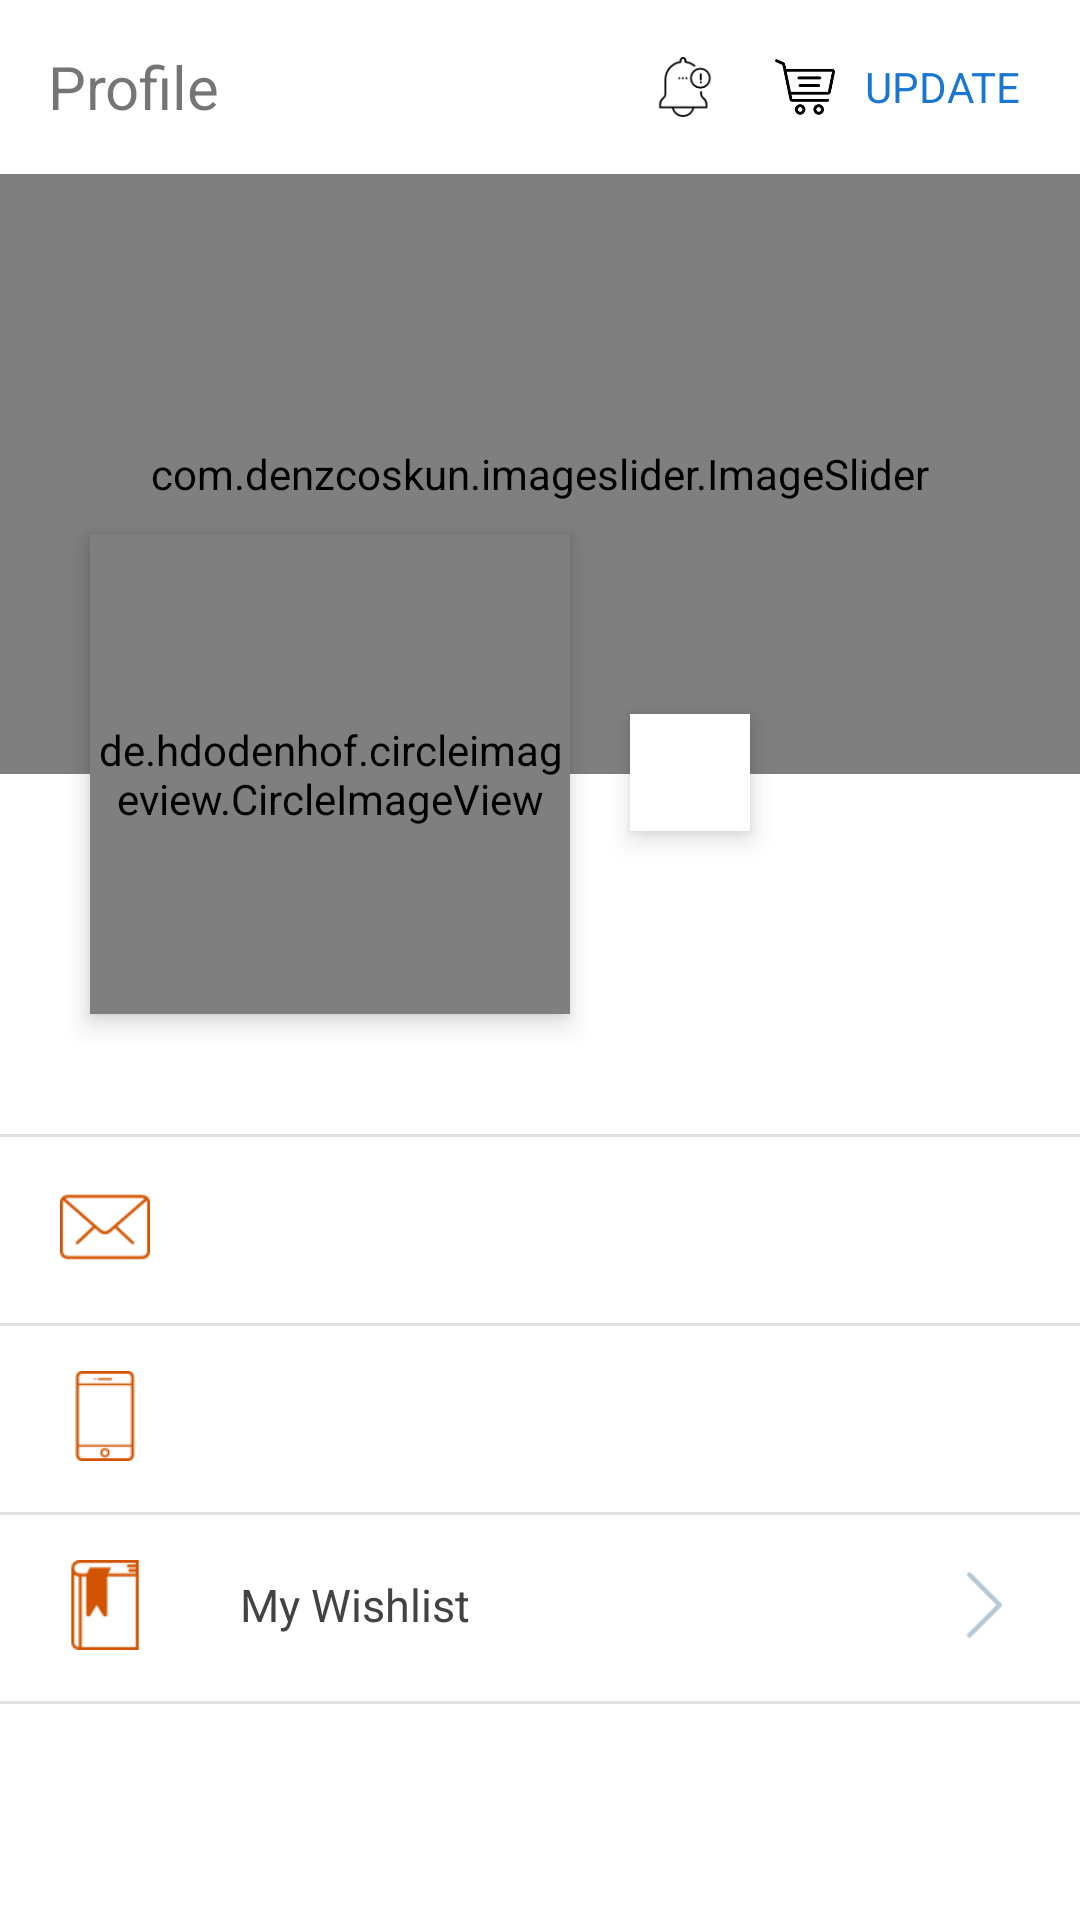

Named icons in this screenshot (1080*1920) and their bounding boxes, {"left": x1, "top": y1, "right": x2, "bottom": y2}:
agenda: {"left": 71, "top": 1560, "right": 139, "bottom": 1650}
cart: {"left": 775, "top": 59, "right": 835, "bottom": 115}
mail: {"left": 60, "top": 1194, "right": 150, "bottom": 1260}
notification: {"left": 658, "top": 57, "right": 711, "bottom": 117}
rightarrow: {"left": 967, "top": 1572, "right": 1002, "bottom": 1638}
smartphone: {"left": 75, "top": 1371, "right": 135, "bottom": 1461}
